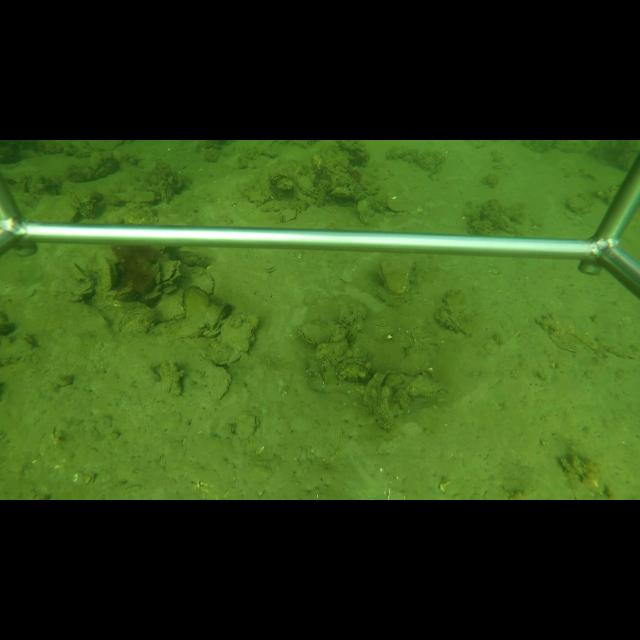Oyster-Closed: (378, 255, 416, 297), (444, 289, 475, 338), (218, 313, 254, 355), (295, 321, 332, 348), (406, 376, 447, 397), (213, 365, 234, 402), (234, 414, 259, 441), (190, 274, 214, 295), (294, 172, 314, 196), (386, 193, 407, 213), (356, 198, 371, 225)
Oyster-Open: (100, 256, 120, 291), (160, 260, 181, 287)
